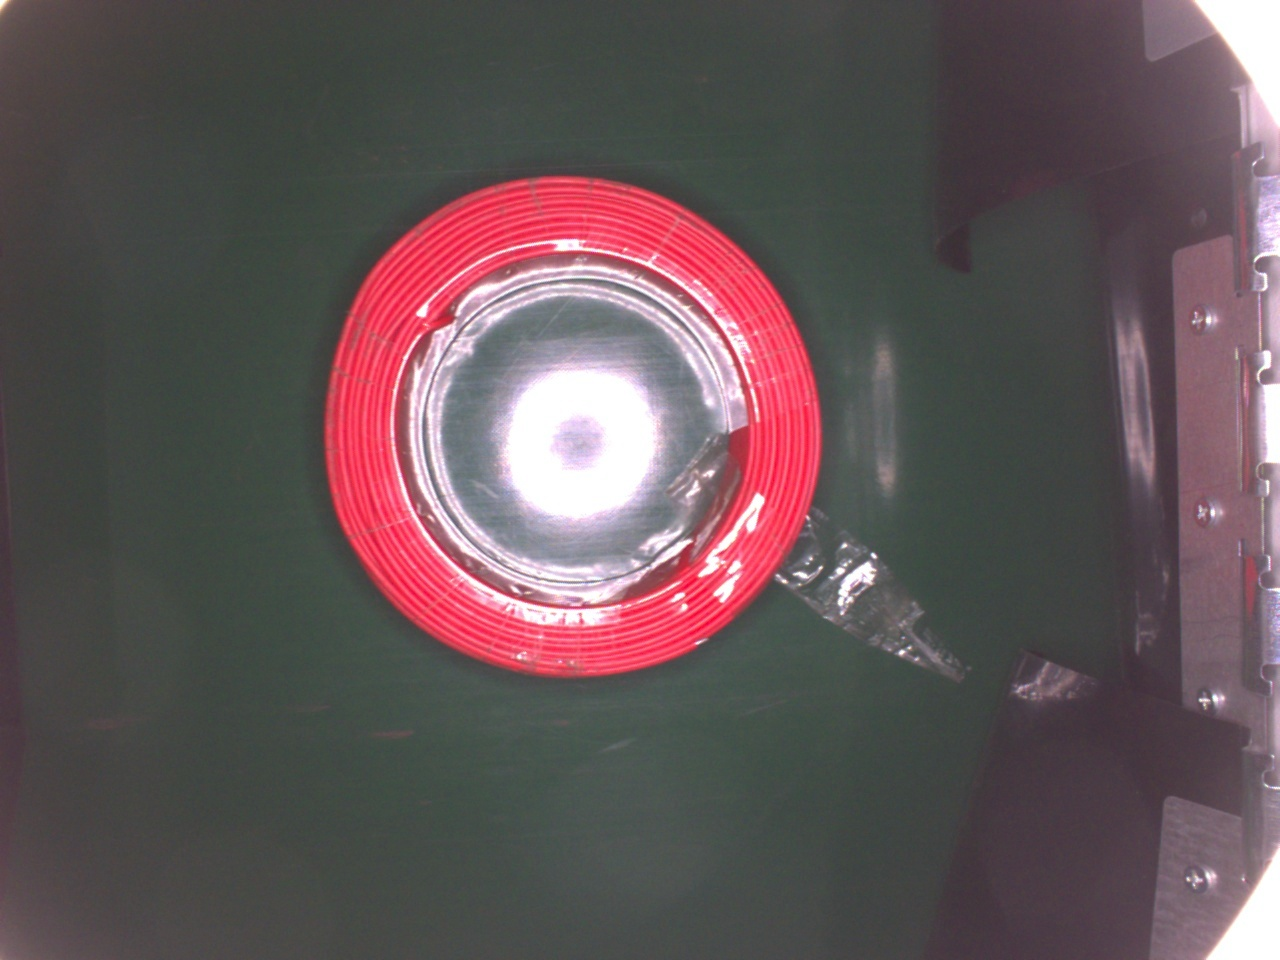red: (314, 170, 836, 686)
